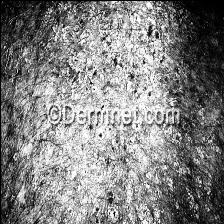Unclassified: (0, 0, 224, 100), (0, 139, 209, 224), (192, 51, 224, 200), (0, 26, 33, 168)
